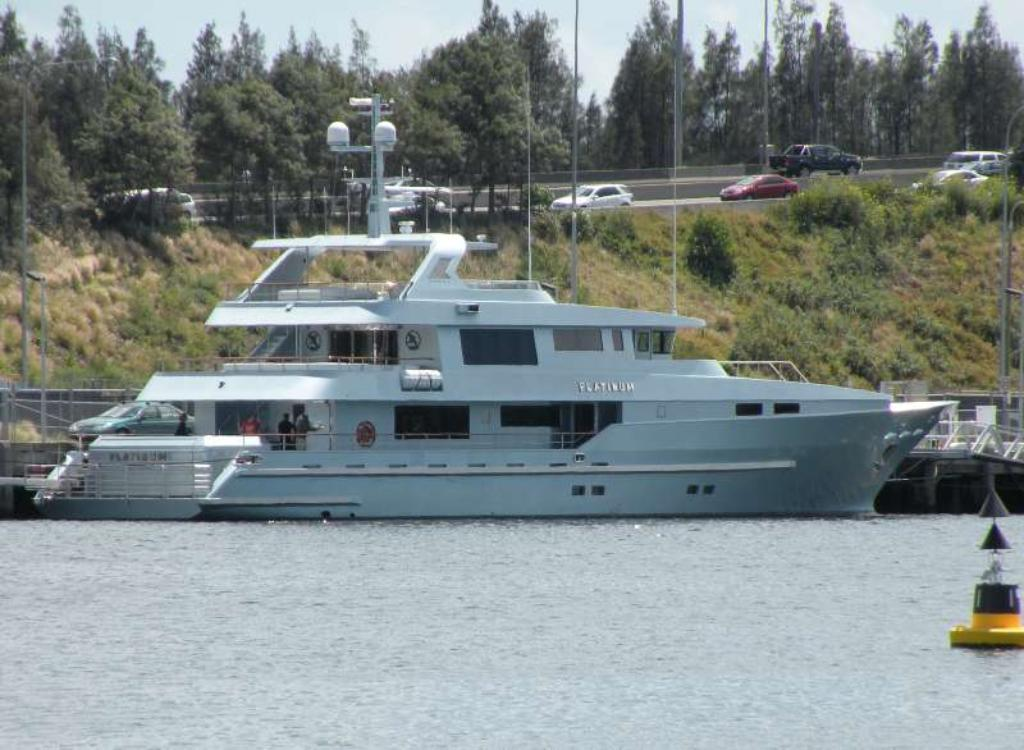PassengerShip: (22, 86, 950, 526)
